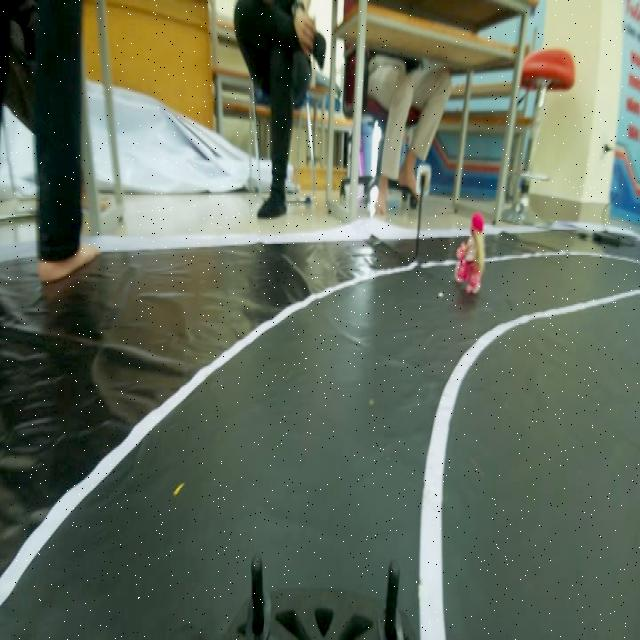pedestrian: (453, 208, 487, 300)
